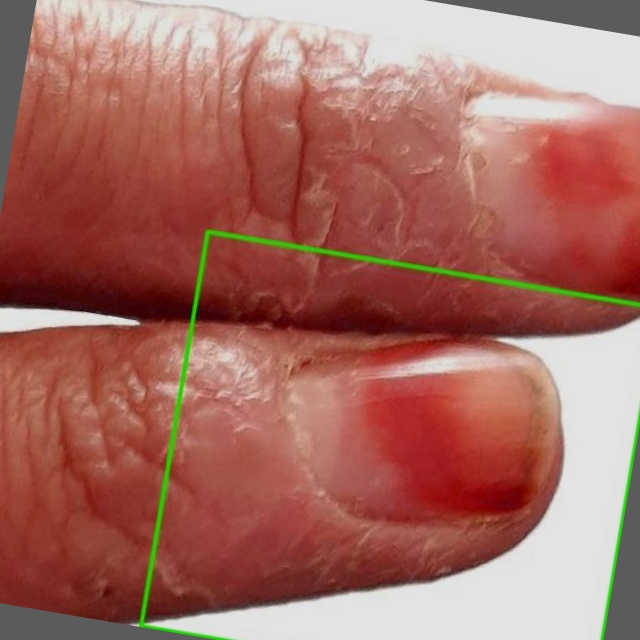Contact Dermatitis: (140, 231, 639, 639)
